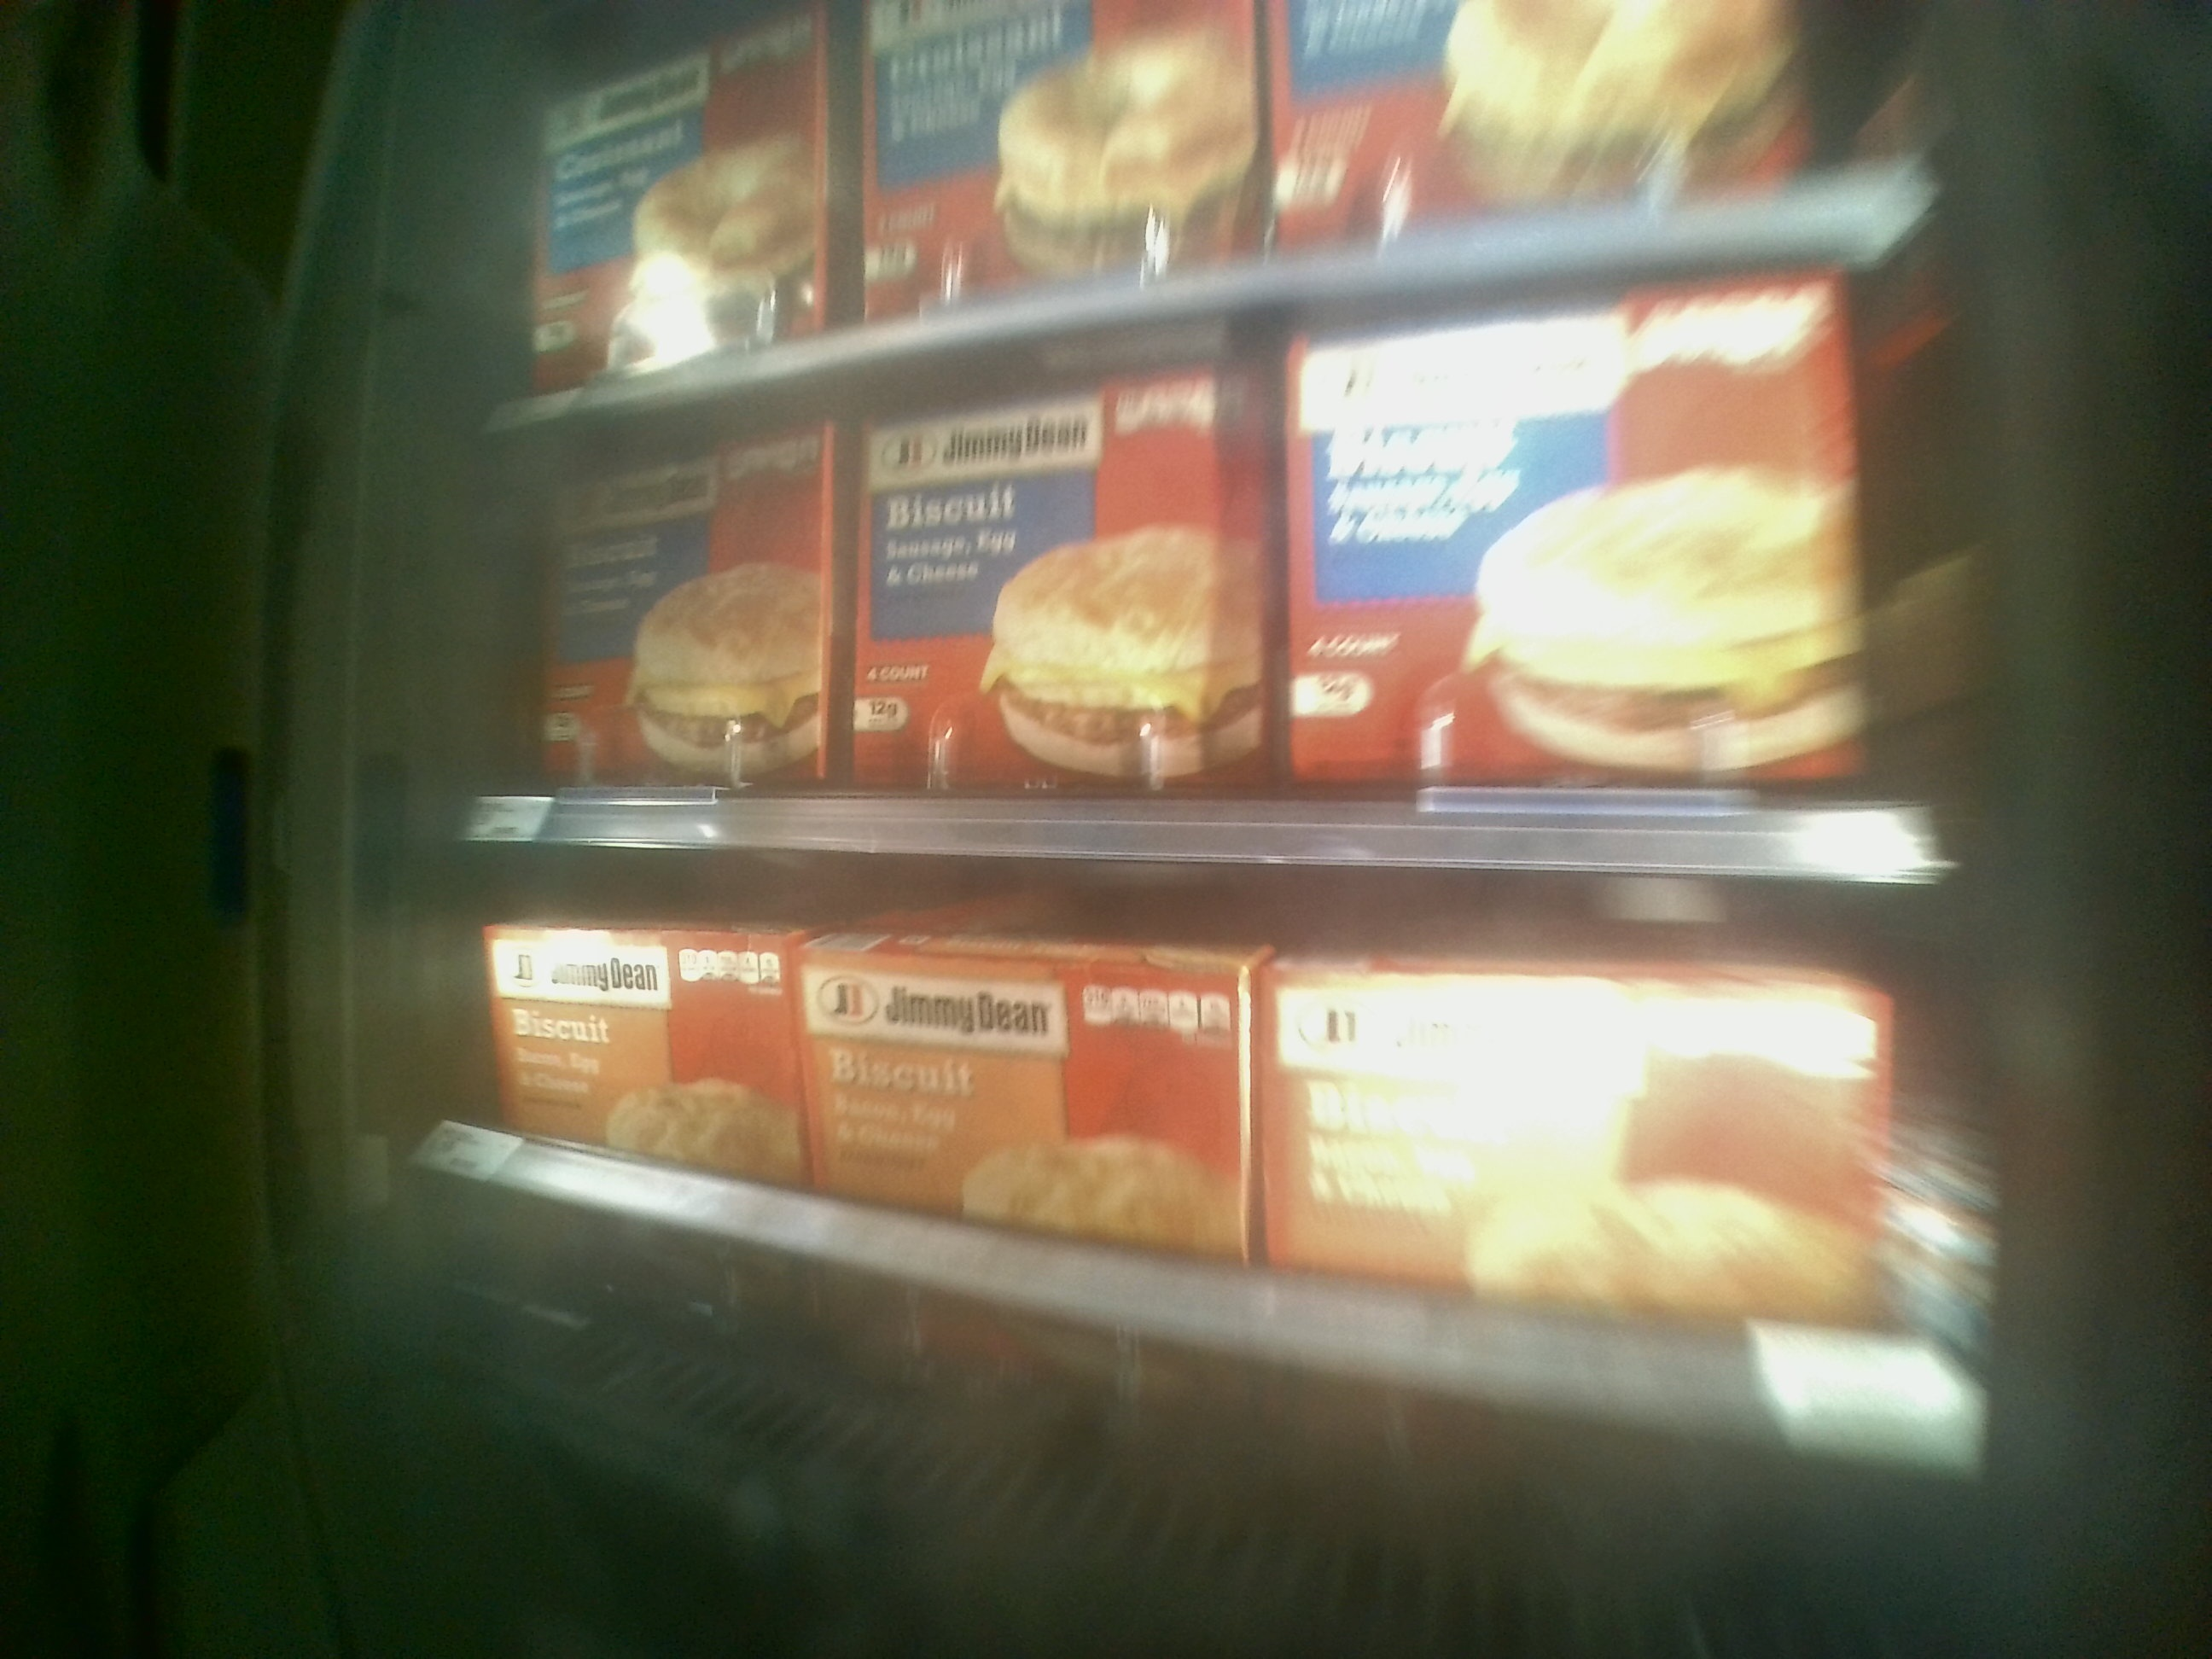shelf: (486, 209, 1942, 889), (451, 854, 1963, 1476)
